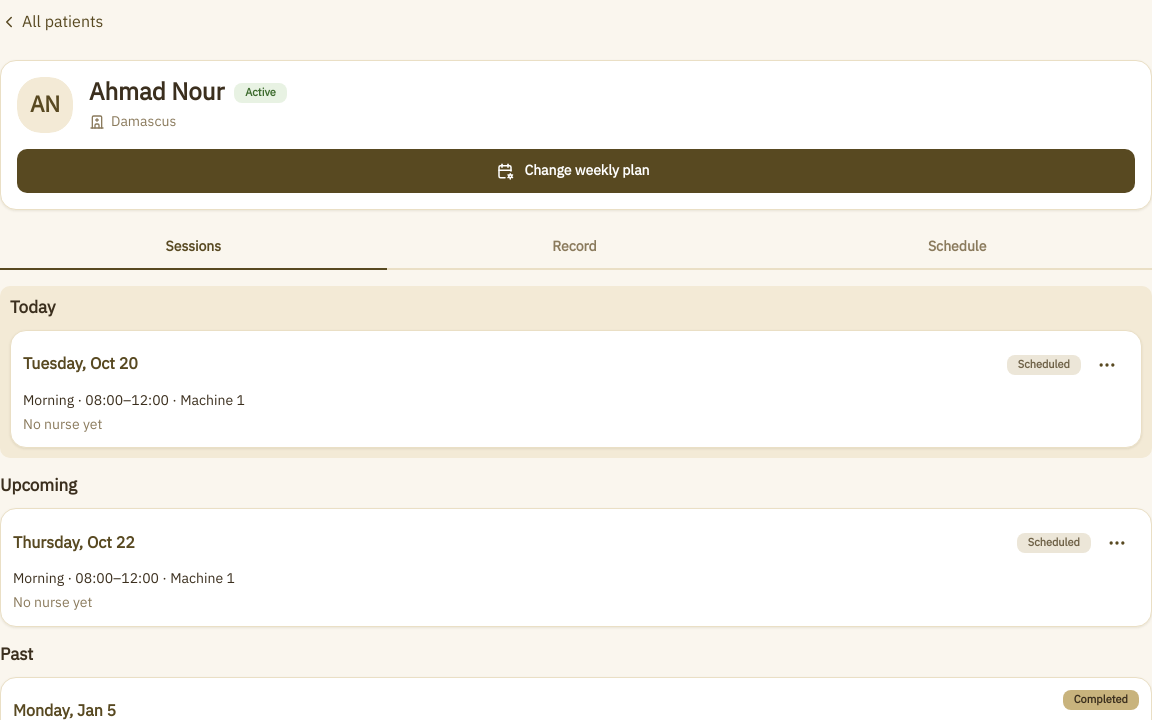
Test: PatientPage session actions › puts Move / Postpone / Cancel in an upcoming row menu and Did not come on today, per permission
Click the button named "Actions for ": (1117, 543) top-left (1095, 521), bottom-right (1139, 565)
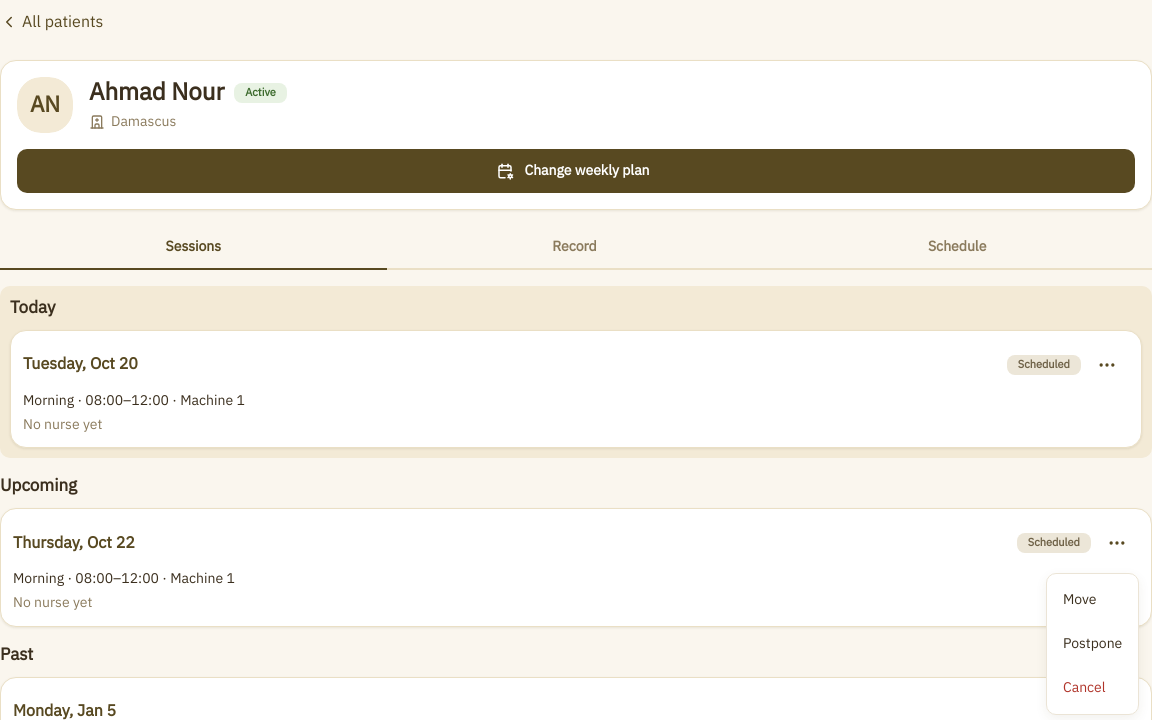
Check: the menu items read "Move", "Postpone", "Cancel", in this order
Click the menu item "Cancel": (1092, 688) top-left (1051, 666), bottom-right (1134, 710)
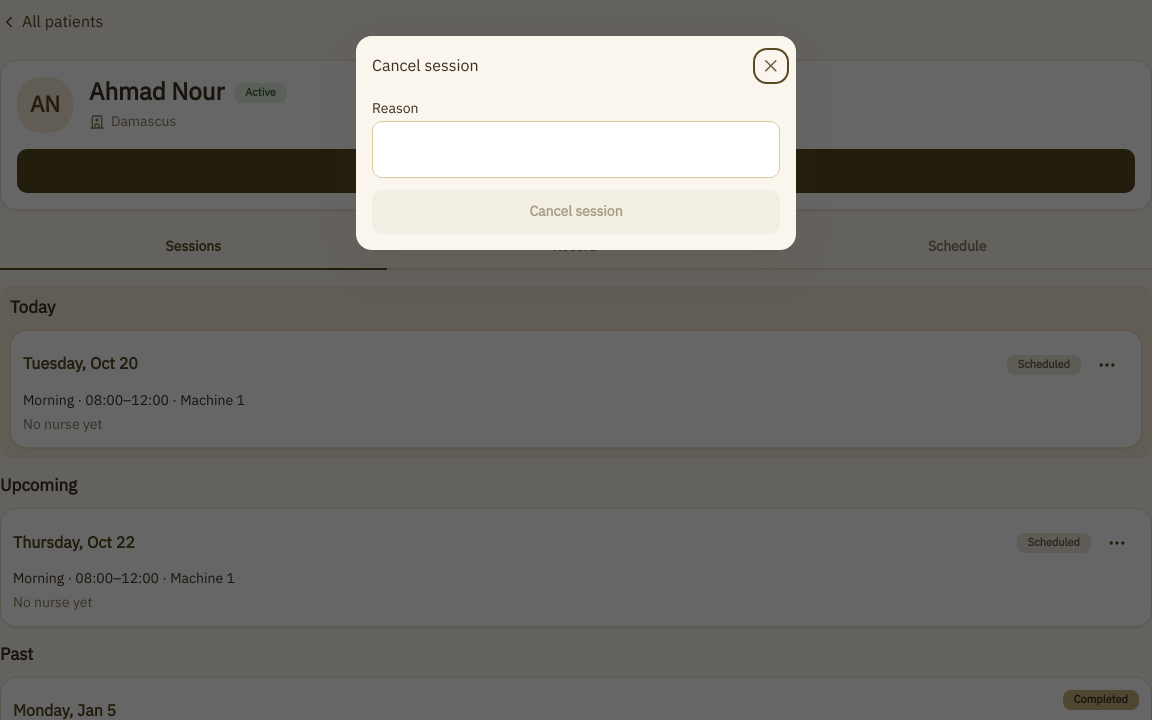
Check: the text box labelled "Reason" is shown, box top-left (372, 121), bottom-right (780, 178)
Press Escape
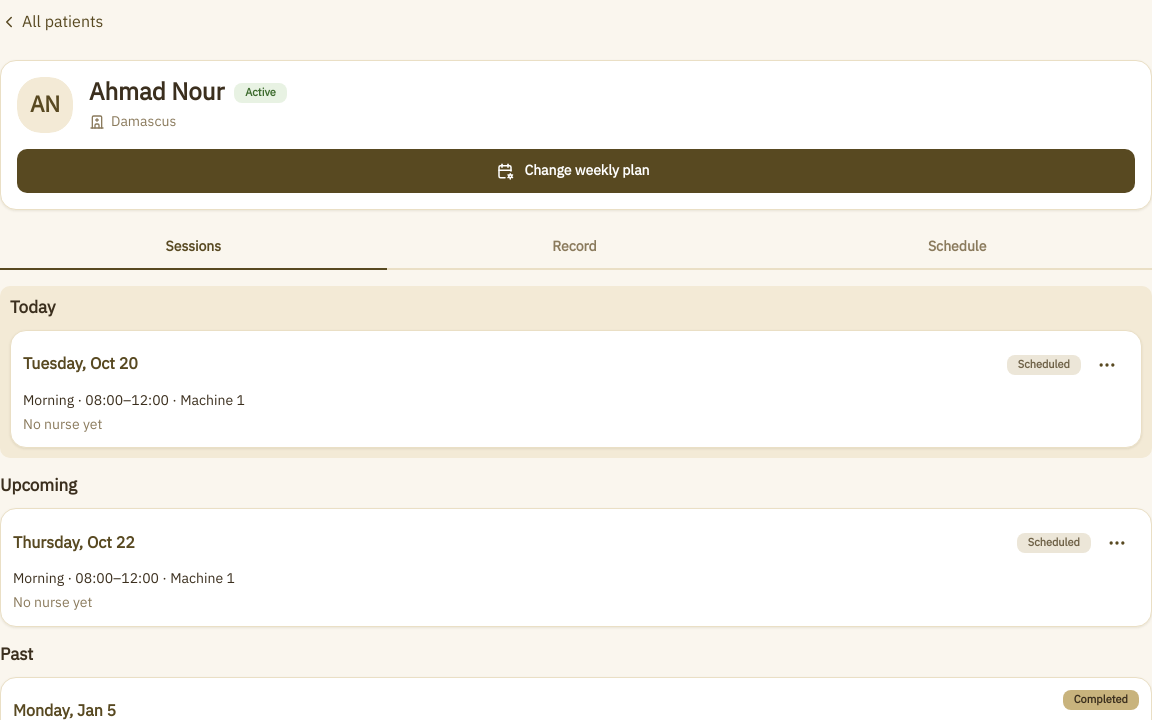
Check: the dialog is gone
Click the button named "Actions for Tuesday, Oct 20": (1107, 365) top-left (1085, 343), bottom-right (1129, 387)
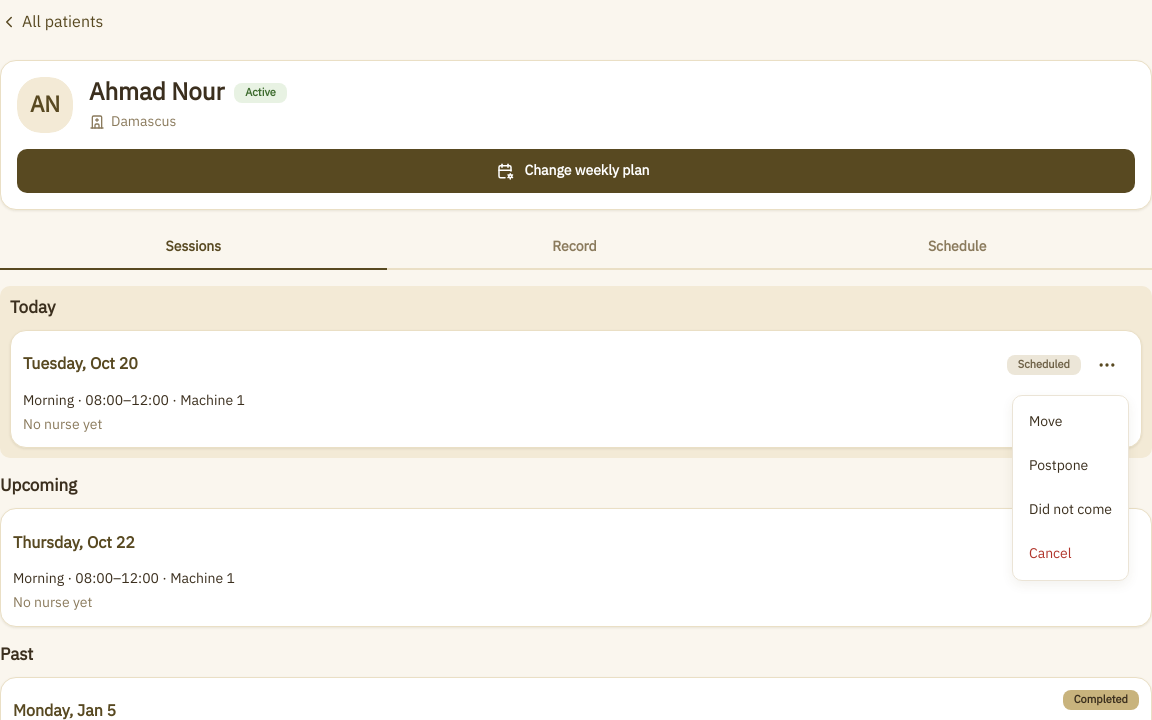
Check: the menu item "Did not come" is shown, box top-left (1017, 488), bottom-right (1124, 532)
